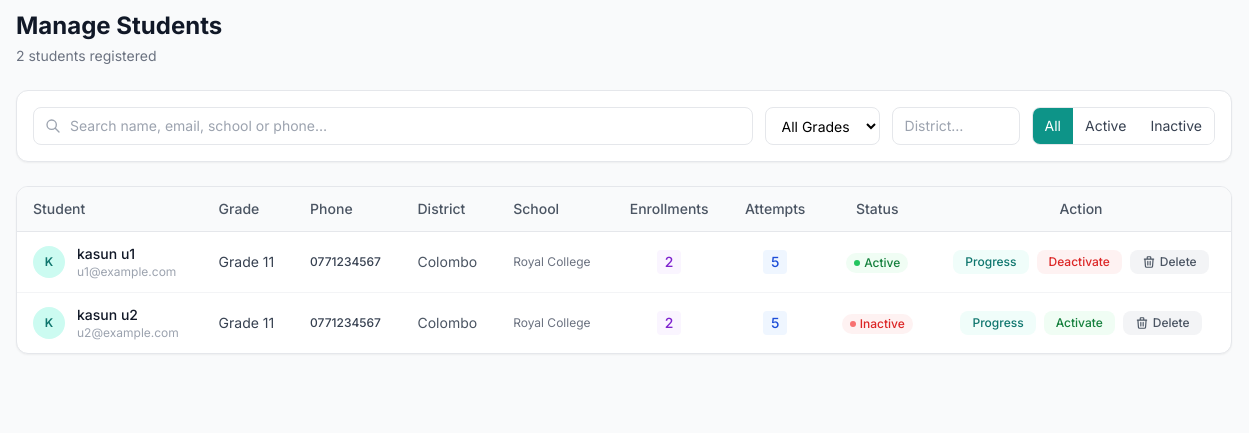
it: Manage students › shows a failed toggle
What coordinates should you click on to do the following:
click the button "Deactivate"
I would click on:
 (1079, 262)
Its box is [1036,250,1122,274].
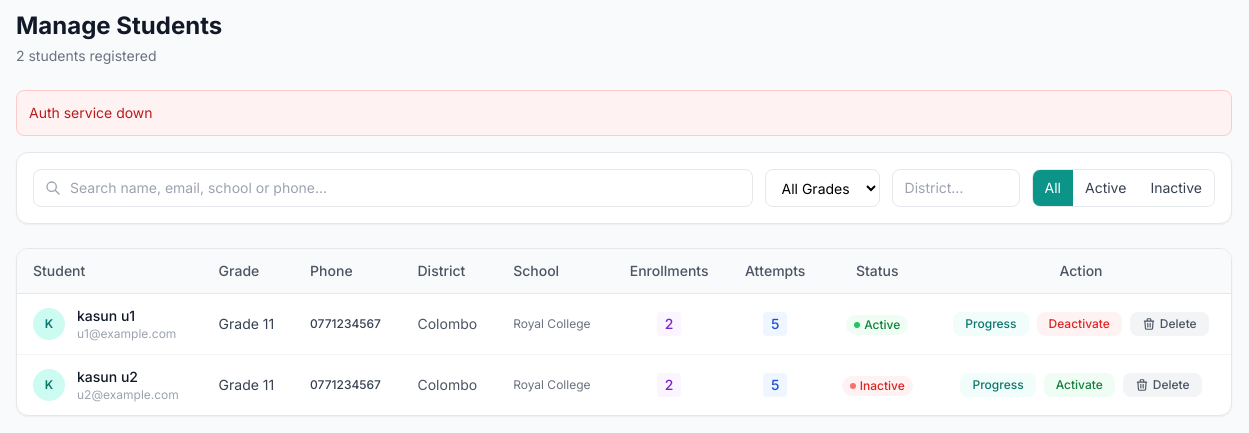
expect the text "Auth service down" is shown: met, box [16,90,1232,136]
